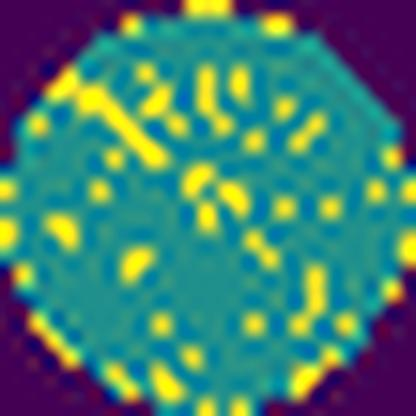Scratch: (43, 64, 171, 172)
